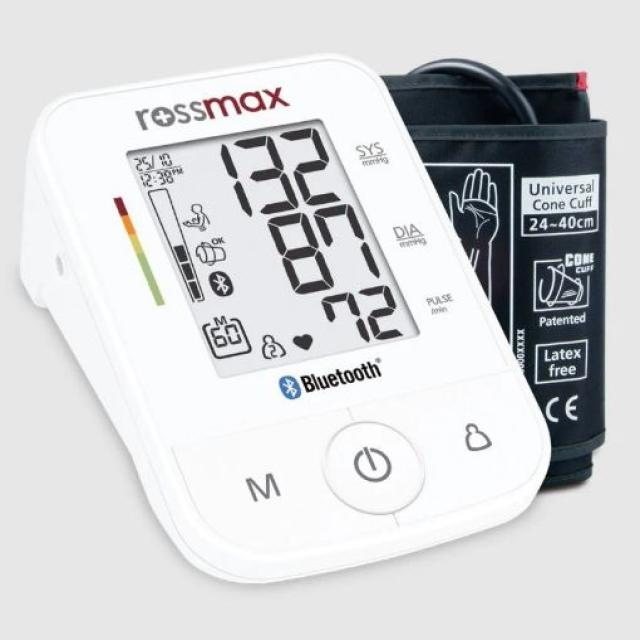dia: (260, 193, 385, 298)
pul: (314, 279, 412, 352)
ssd: (122, 75, 419, 416)
sys: (210, 116, 351, 225)
